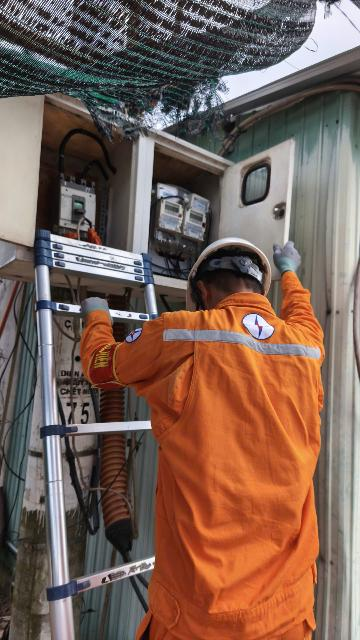gloves: (268, 218, 317, 287), (59, 289, 115, 337)
helmet: (186, 233, 275, 306)
